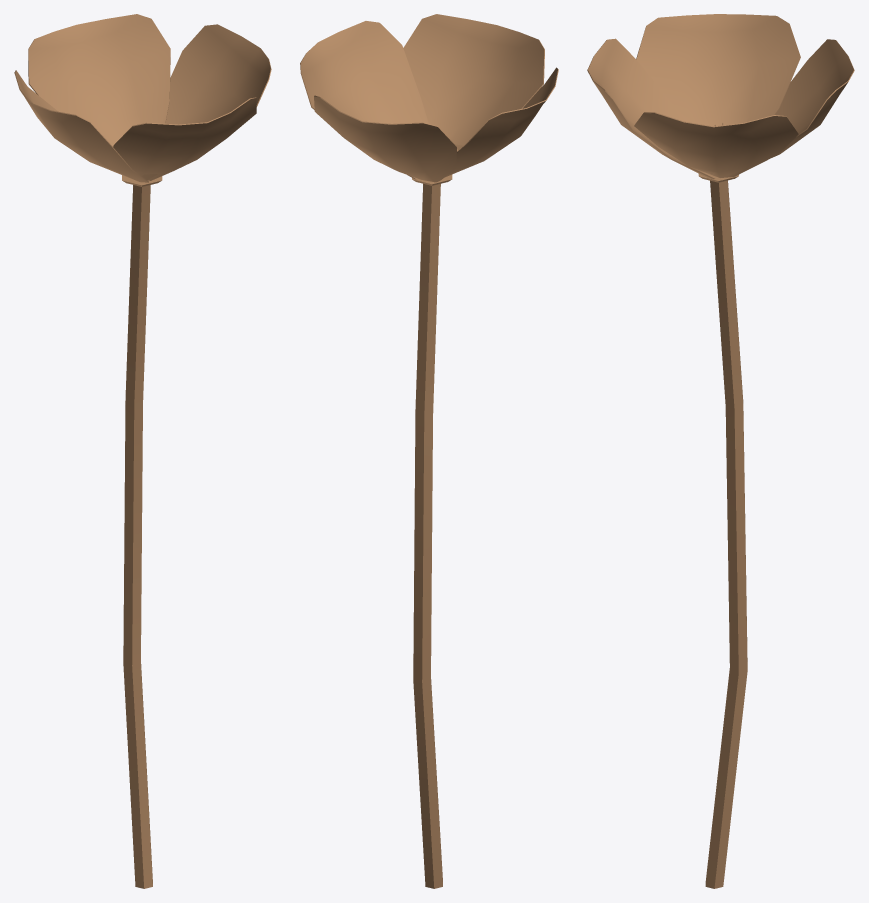
The model's file is dlabonnec.fbx.
3 renders of one model, left to right at view 1: azimuth 30°, elevation 25°; view 2: azimuth 150°, elevation 25°; view 3: azimuth 270°, elevation 25°, orthographic.
Parts seen in each view (by area): view 1: pavot_de_californie1_tige; view 2: pavot_de_californie1_tige; view 3: pavot_de_californie1_tige.
Boxes of the visible parts, x1=… form: pavot_de_californie1_tige: x1=14, y1=14, x2=271, y2=888; pavot_de_californie1_tige: x1=300, y1=14, x2=558, y2=888; pavot_de_californie1_tige: x1=587, y1=14, x2=854, y2=888.
Size of the model in its own units: 1.61 by 5.46 by 1.61.
